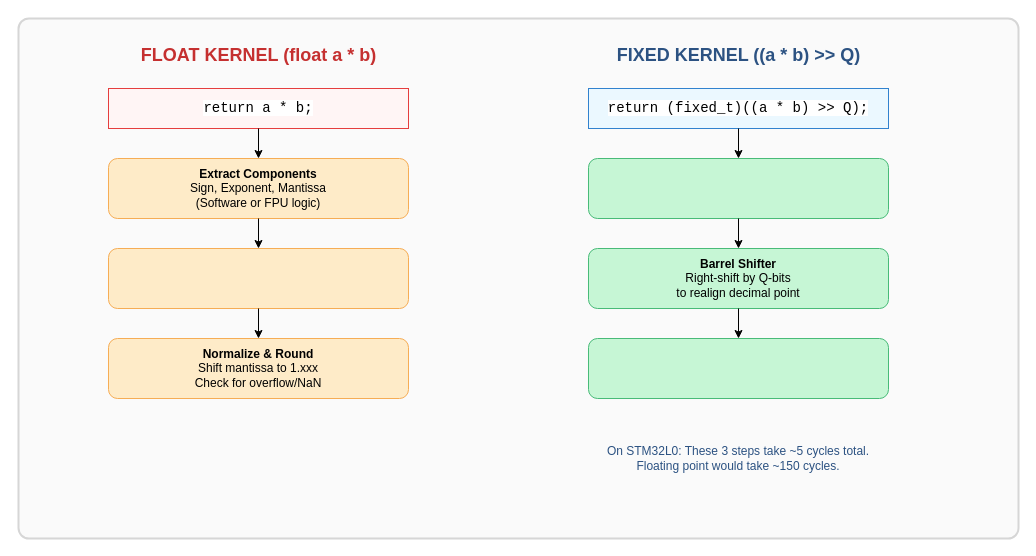
Some shapes in this 1036 by 556 pixel diagram are drawn without their labels. The centre of each missing label's shape, as x and y in pixels:
Integer Multiplier Raw bit-for-bit multiply (32-bit x 32-bit = 64-bit): point 738,188
Multiply Mantissas Add Exponents Determine Result Sign: point 258,278
Truncate Cast 64-bit result back to 32-bit integer: point 738,368
